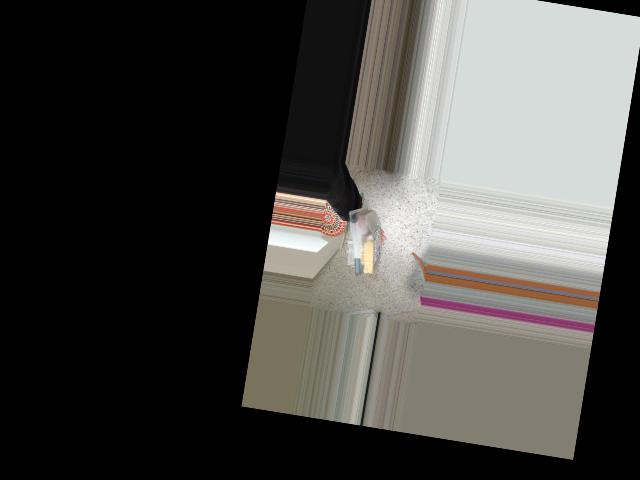cheese: (337, 206, 388, 278)
